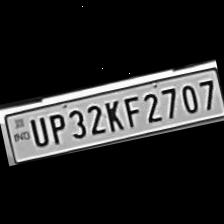0: (174, 80, 200, 114)
2: (136, 87, 164, 125), (81, 100, 107, 136)
3: (62, 104, 88, 140)
7: (194, 75, 220, 112), (156, 83, 180, 121)
F: (117, 92, 143, 128)
K: (99, 96, 124, 134)
P: (42, 108, 68, 146)
U: (24, 113, 49, 149)
